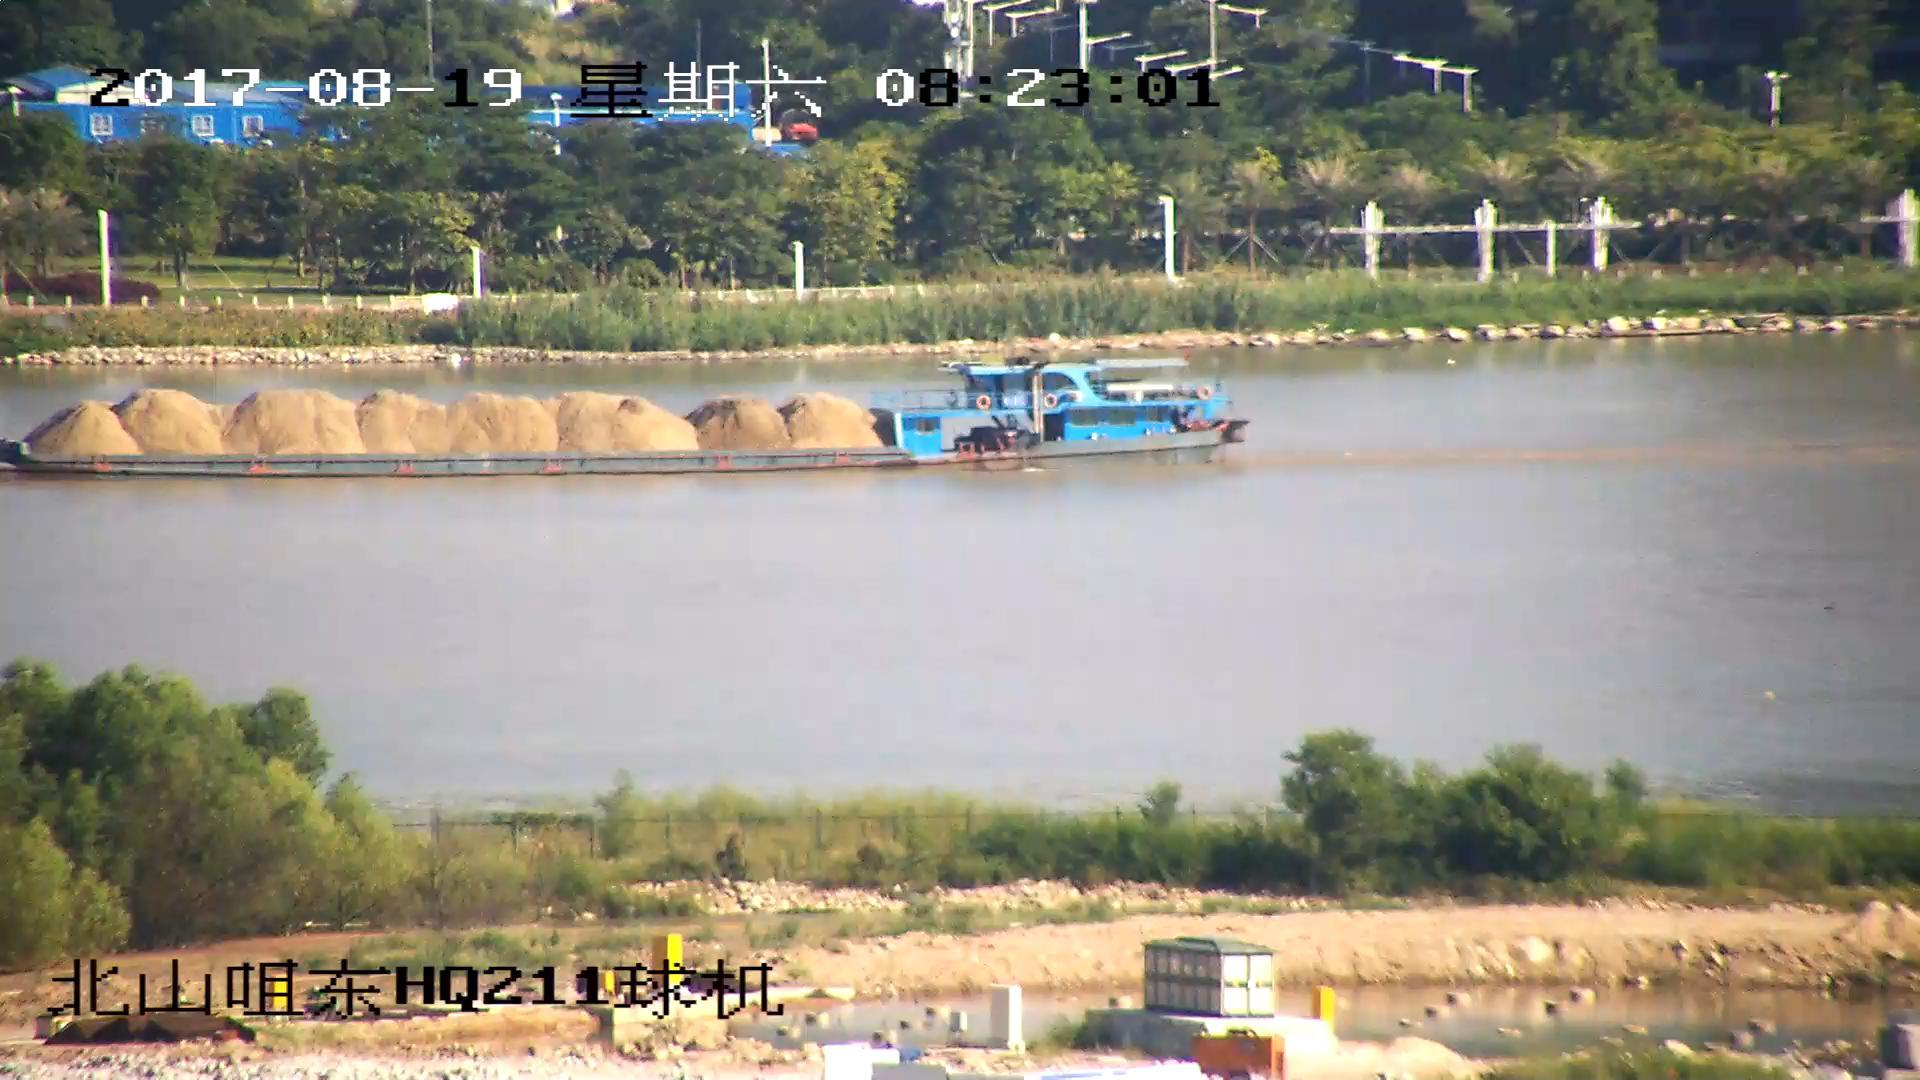Ship: (3, 342, 1253, 480)
